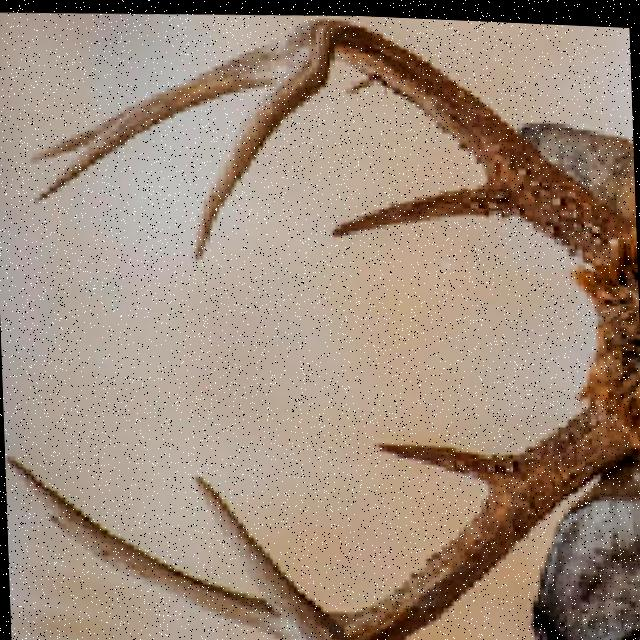L-F: (192, 401, 637, 640)
L-G1: (377, 439, 523, 482)
L-G3: (5, 455, 301, 640)
R-F: (192, 13, 634, 259)
R-G1: (329, 175, 518, 233)
R-G3: (31, 56, 277, 204)
